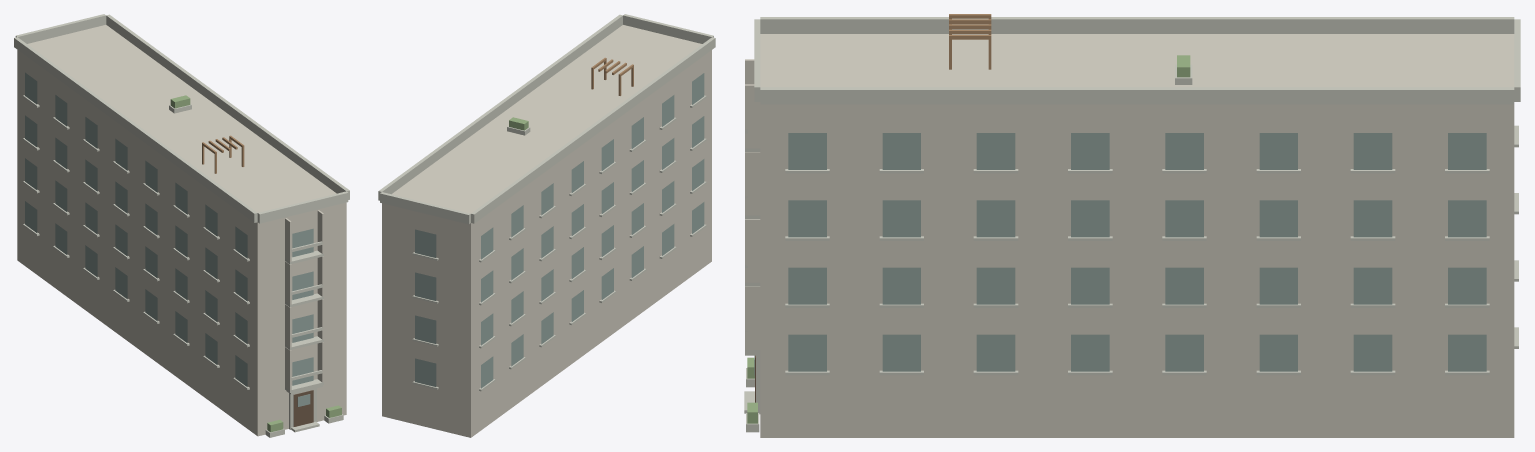
Rendered from residential_1x4_b.glb.
3 views of the same model, side by side, from view 1: azimuth 30°, elevation 25°; view 2: azimuth 150°, elevation 25°; view 3: azimuth 270°, elevation 25° (orthographic). The views are drawn at different scales.
Parts seen in each view (by area): view 1: residential_1x4_b_0; view 2: residential_1x4_b_0; view 3: residential_1x4_b_0.
Boxes of the visible parts, bbox=[...] form: residential_1x4_b_0: bbox=[14, 14, 349, 437]; residential_1x4_b_0: bbox=[378, 14, 715, 437]; residential_1x4_b_0: bbox=[744, 14, 1520, 437].
Bounding box in the file's own units: 7 × 16.5 × 31.4.
